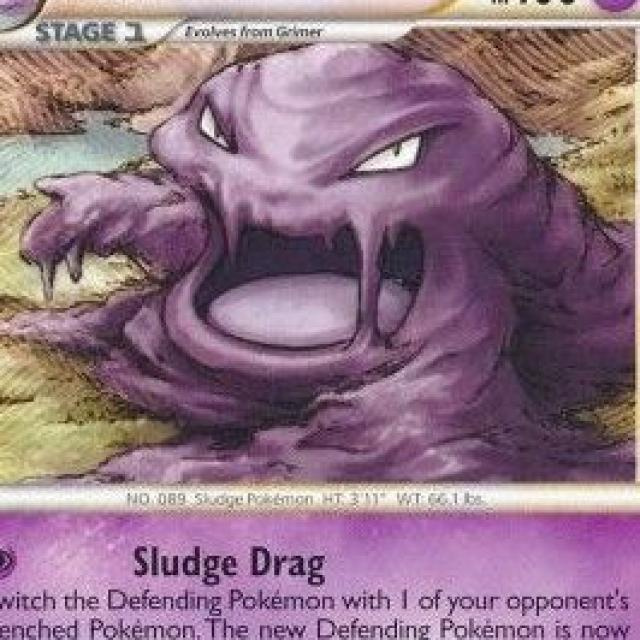Muk: (44, 49, 632, 478)
